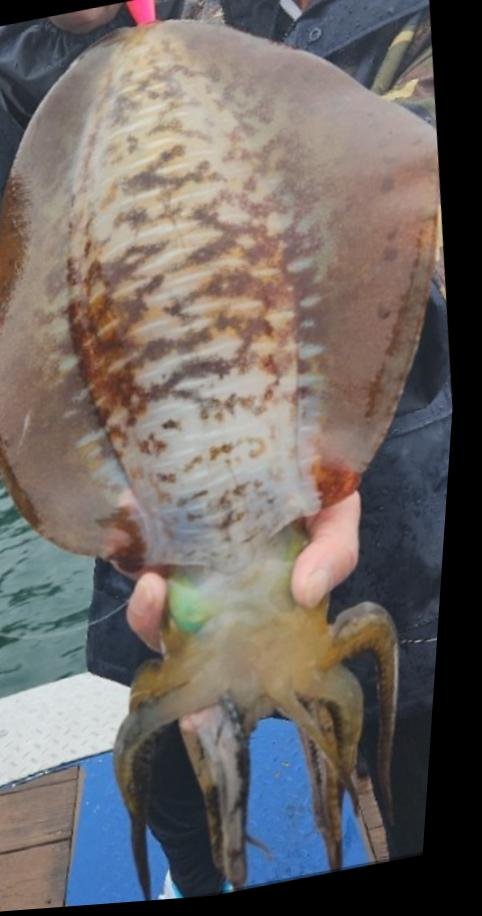Cephalopod: (0, 23, 444, 900)
